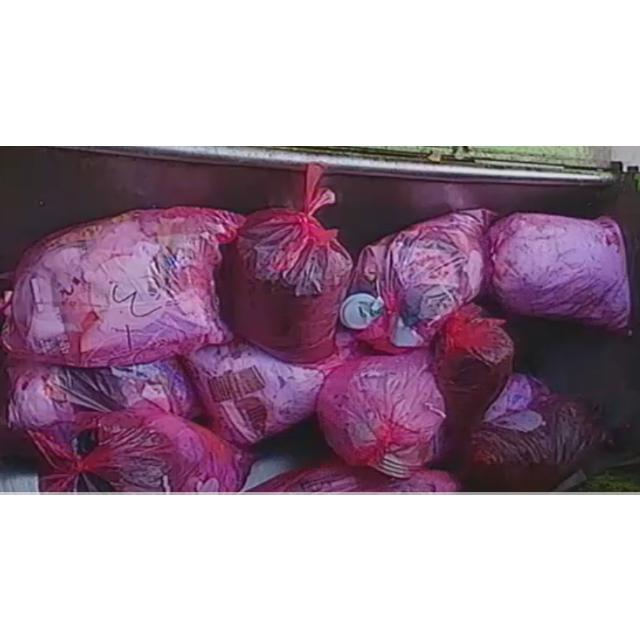other_trashbag: (1, 206, 244, 366), (231, 164, 352, 362), (341, 208, 495, 352), (184, 325, 356, 444), (28, 406, 249, 491), (316, 348, 446, 477), (490, 212, 631, 330), (466, 372, 599, 490), (9, 358, 201, 428), (435, 304, 514, 468), (251, 465, 460, 491)
